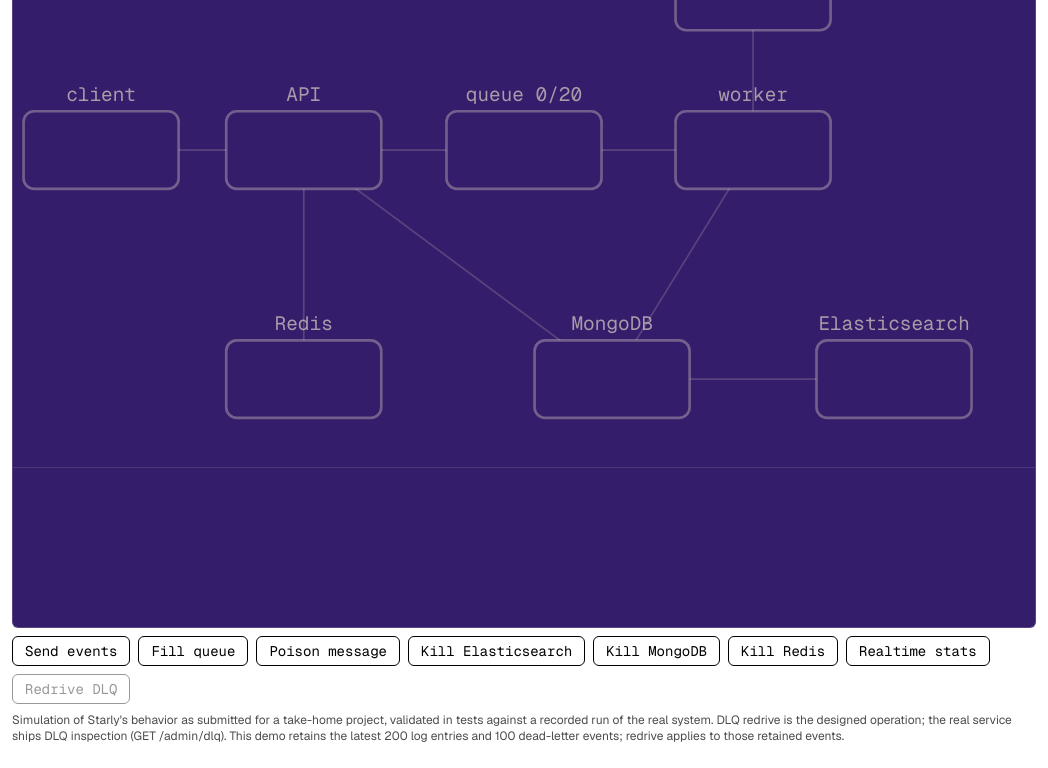
Scenario: Pipeline (reduced motion) › acks a burst instantly
(page scrolled)
Click the button "Send events" at (71, 651), box [12,636,130,666]
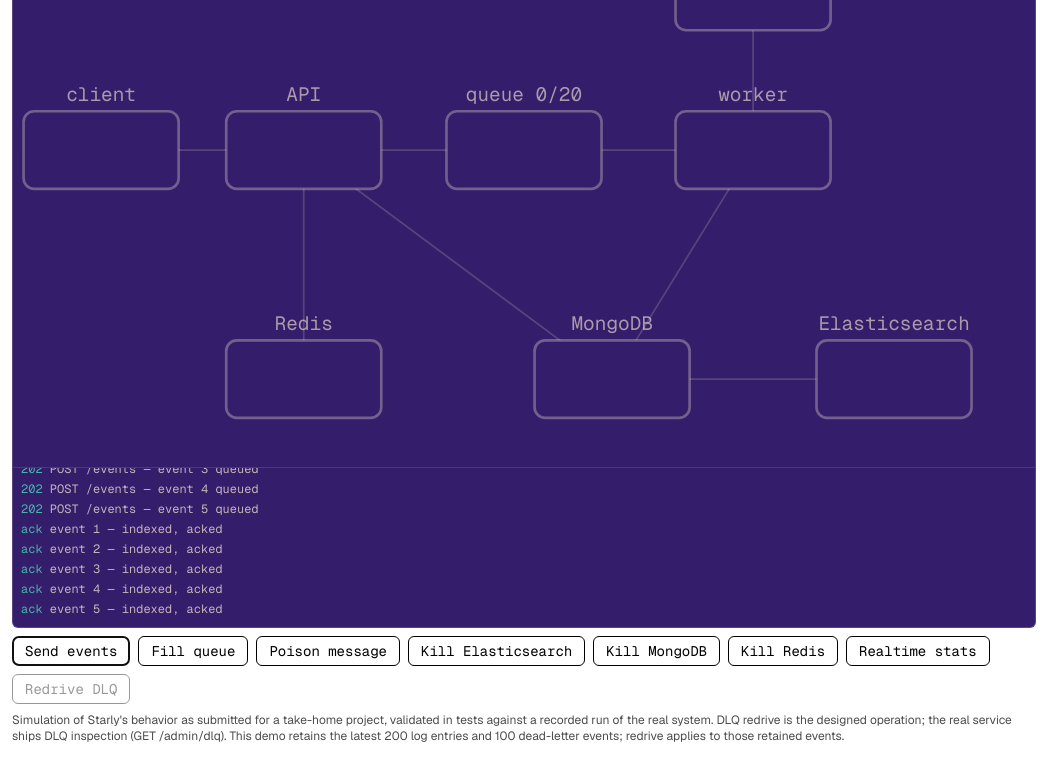
Expected: the element that starts with "POST /events — event 1 queued" shows "acked", [50,521,223,537]
